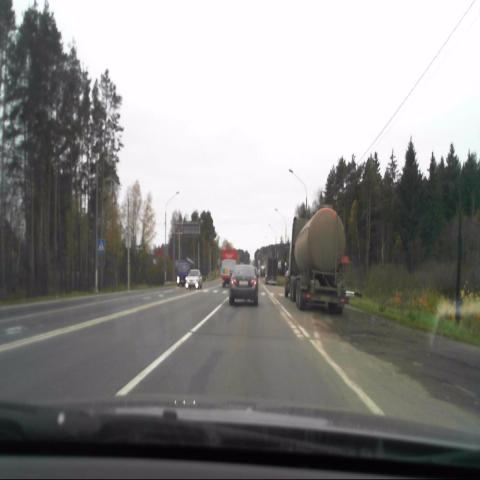5_19_1: (98, 238, 105, 251)
